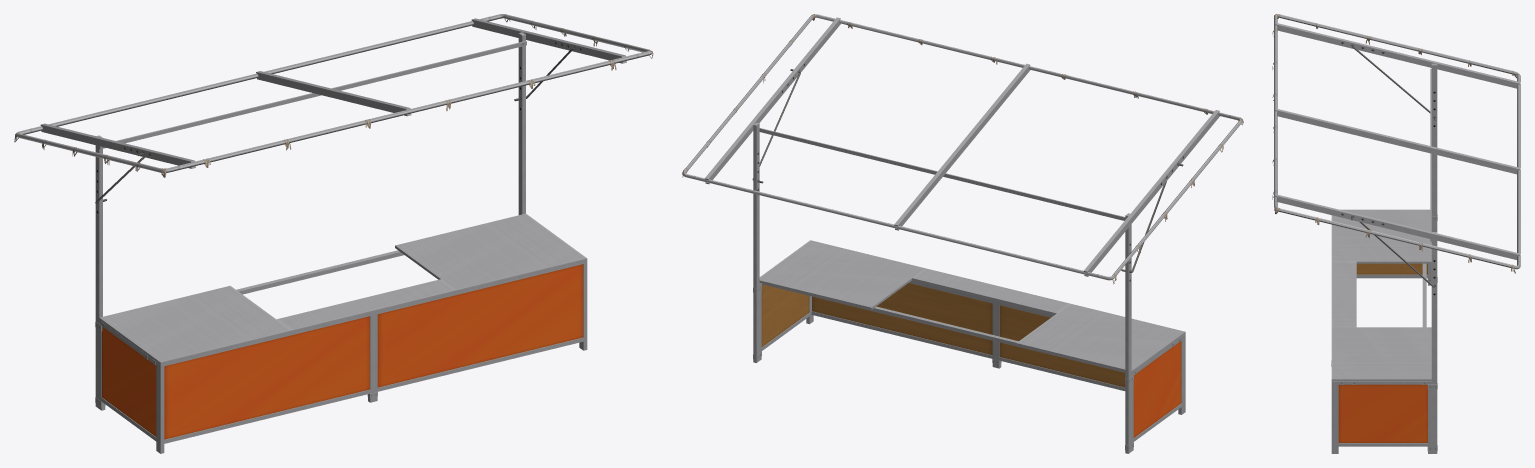
The model's file is jsf_2P_s04_c01_t02.fbx.
3 renders of one model, left to right at view 1: azimuth 30°, elevation 25°; view 2: azimuth 150°, elevation 25°; view 3: azimuth 270°, elevation 25°, orthographic. The views are drawn at different scales.
Visible parts, largest first — view 1: Base_s04_c01, Table_2P_s04_t02, Pillar2_s04, Rope_2P_s04; view 2: Base_s04_c01, Table_2P_s04_t02, Pillar2_s04; view 3: Pillar2_s04, Table_2P_s04_t02, Base_s04_c01, Rope_2P_s04.
Part boxes in pixels (x1,y1,x2,y2): Base_s04_c01: (95,258,587,453); Table_2P_s04_t02: (99,213,586,365); Pillar2_s04: (15,14,651,408); Rope_2P_s04: (14,14,653,177); Base_s04_c01: (753,240,1185,451); Table_2P_s04_t02: (759,240,1184,374); Pillar2_s04: (682,14,1242,453); Pillar2_s04: (1274,14,1520,453); Table_2P_s04_t02: (1332,209,1431,384); Base_s04_c01: (1331,215,1437,453); Rope_2P_s04: (1272,14,1516,273).
Bounding box in the file's own units: 395 × 244 × 211.
